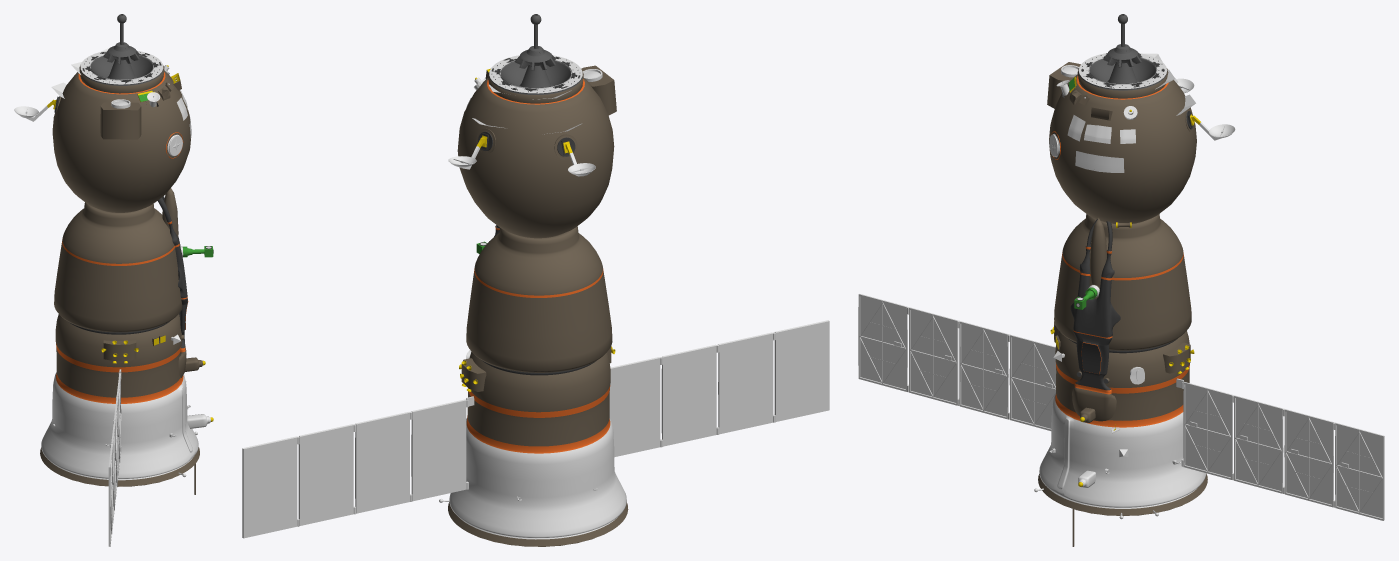
Rendered from Soyuz_1.fbx.
3 views of the same model, side by side, from view 1: azimuth 30°, elevation 25°; view 2: azimuth 150°, elevation 25°; view 3: azimuth 270°, elevation 25° (orthographic). The views are drawn at different scales.
Parts seen in each view (by area): view 1: Soyuz; view 2: Soyuz; view 3: Soyuz.
Boxes of the visible parts, x1,y1,x2,y2 form: Soyuz: [14, 14, 213, 546]; Soyuz: [242, 14, 829, 546]; Soyuz: [858, 14, 1384, 546].
Size of what is drawn, in the model's own units: 74.01 by 122 by 115.
